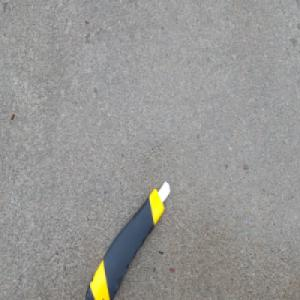Cutter: (82, 179, 171, 299)
